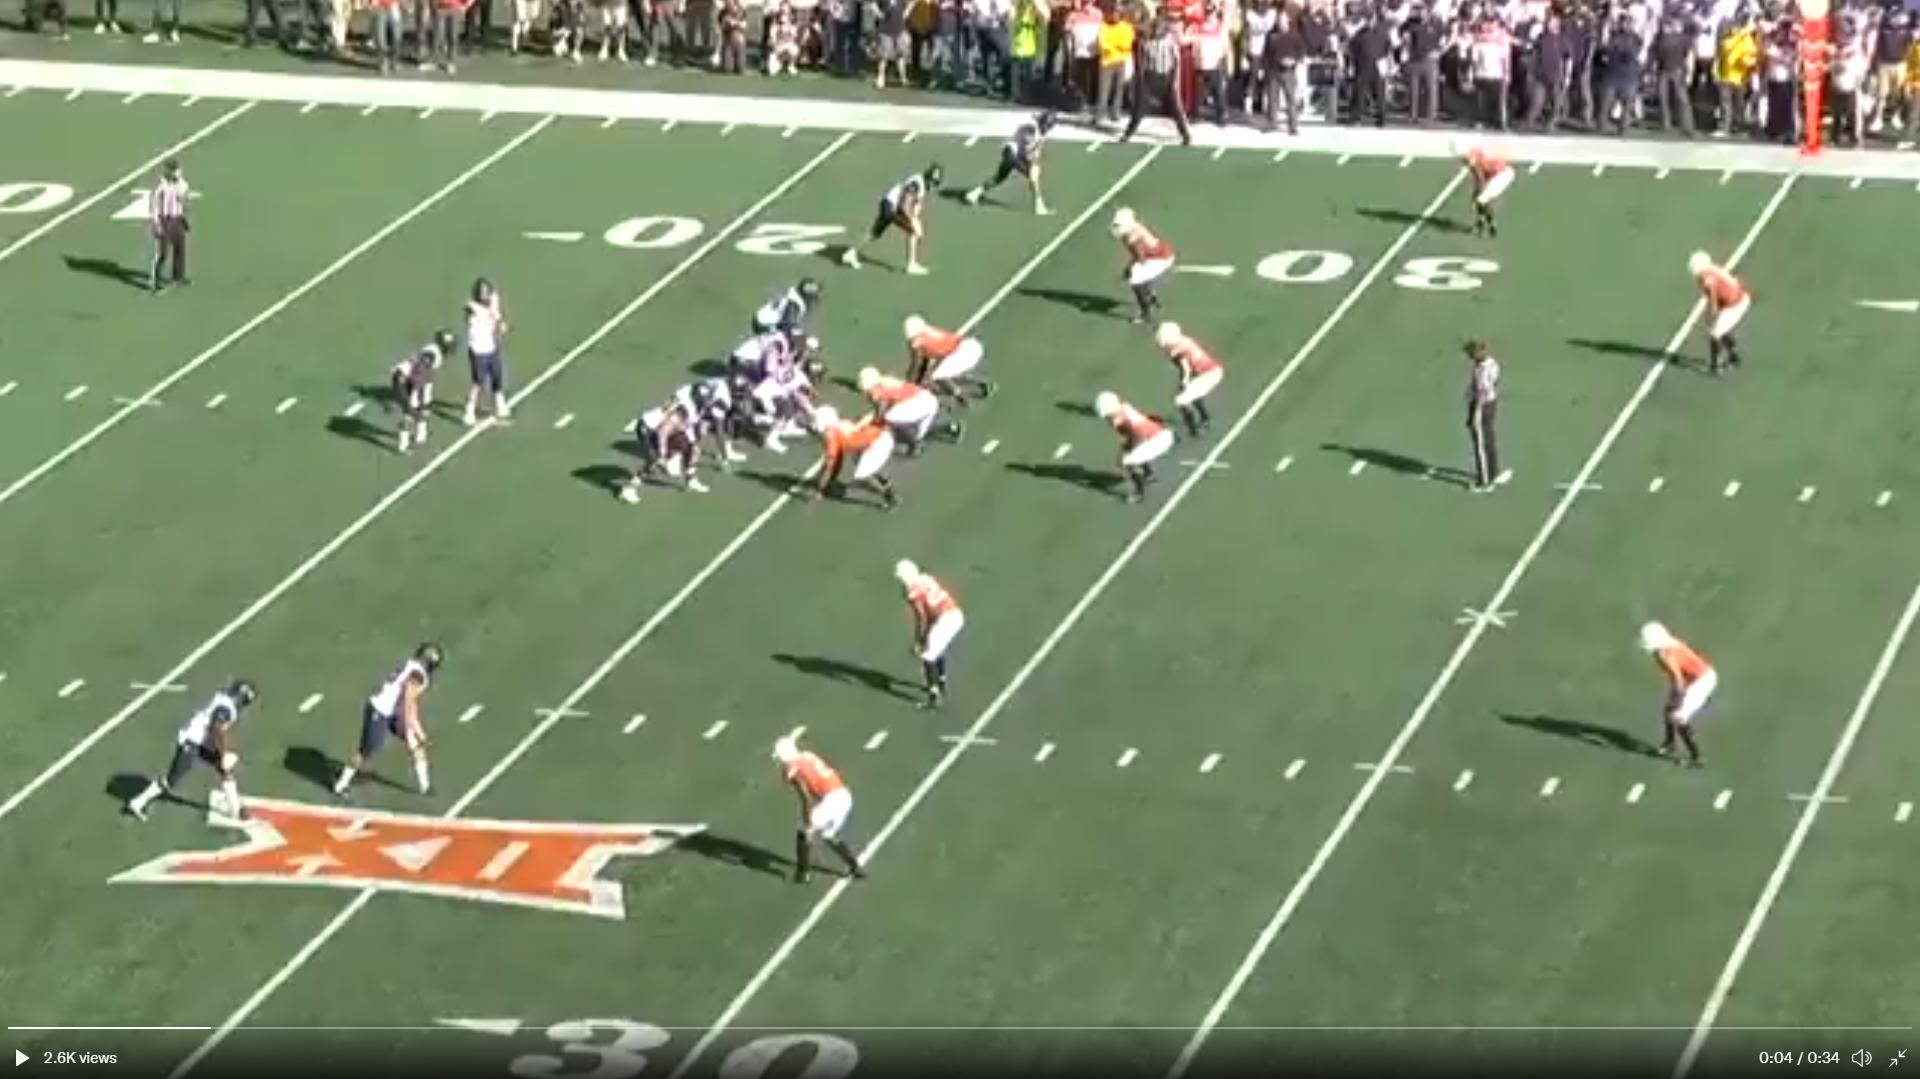player: (331, 637, 453, 804), (124, 682, 258, 833), (777, 733, 883, 904), (1639, 611, 1720, 776), (885, 555, 965, 718), (619, 381, 712, 511), (838, 164, 939, 282), (805, 402, 900, 515), (963, 110, 1055, 223), (1686, 249, 1758, 389), (904, 313, 993, 415), (1099, 386, 1172, 509), (853, 366, 941, 467), (463, 269, 517, 432), (1157, 317, 1225, 445), (1114, 202, 1180, 332), (393, 328, 455, 461), (1459, 137, 1520, 252), (751, 353, 822, 449), (683, 364, 749, 466), (728, 328, 808, 388), (750, 280, 820, 344)
ref: (1119, 15, 1204, 152), (1462, 334, 1515, 504), (140, 158, 201, 301)
